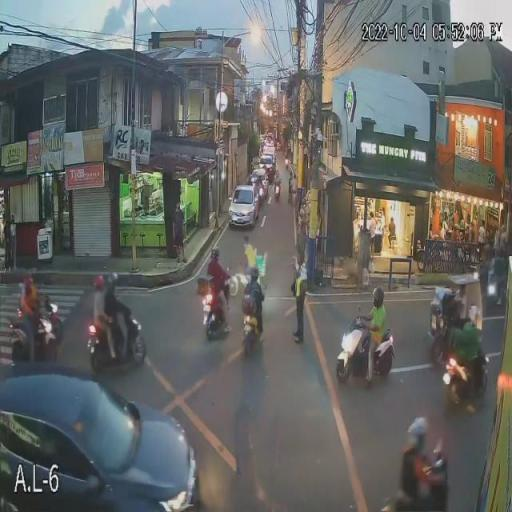helmet: (400, 414, 434, 448), (458, 301, 484, 328), (206, 242, 228, 266), (105, 271, 124, 294), (88, 270, 106, 293), (372, 285, 388, 310), (241, 265, 262, 281), (32, 276, 48, 292), (19, 270, 32, 286)
motorcycle: (335, 308, 404, 397), (386, 432, 460, 512), (82, 314, 157, 377), (4, 299, 74, 366), (442, 345, 494, 409), (236, 283, 280, 358), (195, 266, 231, 345)
rider: (397, 442, 447, 505), (205, 258, 234, 337), (90, 292, 122, 363), (456, 326, 482, 412), (362, 307, 390, 385), (102, 292, 136, 356), (238, 280, 271, 336), (13, 280, 33, 362), (30, 282, 56, 342)
